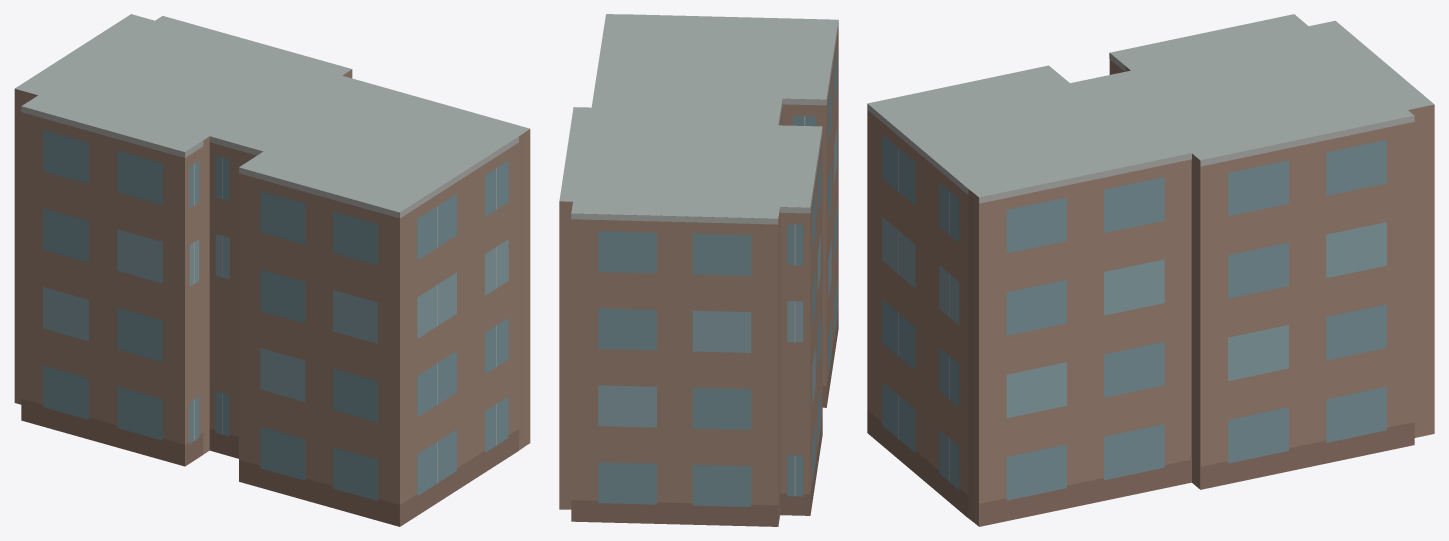
The model's file is survey-upis-32742425.glb.
3 renders of one model, left to right at view 1: azimuth 30°, elevation 25°; view 2: azimuth 150°, elevation 25°; view 3: azimuth 270°, elevation 25°, orthographic. The views are drawn at different scales.
Visible parts, largest first — view 1: survey-upis-32742425.tmp; view 2: survey-upis-32742425.tmp; view 3: survey-upis-32742425.tmp.
Part boxes in pixels (x1,y1,x2,y2): survey-upis-32742425.tmp: (14,14,530,526); survey-upis-32742425.tmp: (559,14,838,526); survey-upis-32742425.tmp: (867,14,1434,526).
Size of the model in its own units: 15.48 by 12.95 by 20.23.
